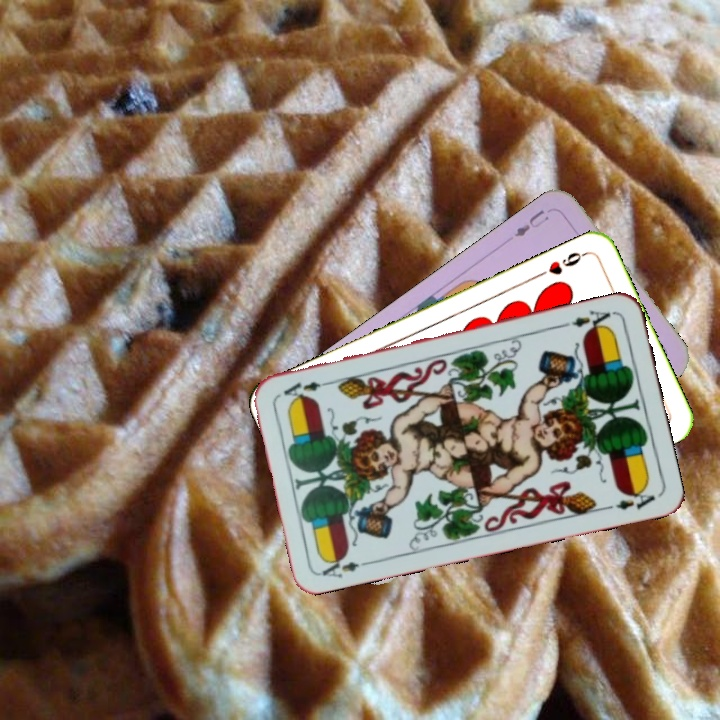EA: (559, 306, 617, 335), (318, 551, 362, 581)
EU: (510, 205, 552, 240)
H9: (534, 247, 590, 279)
